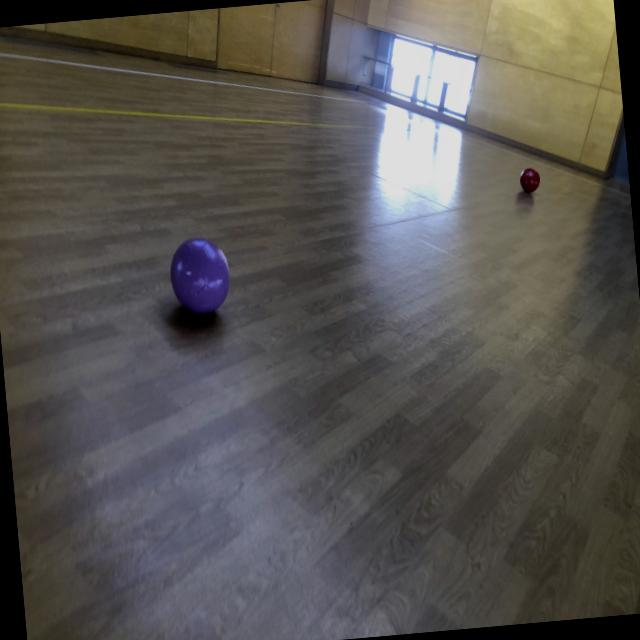purple_ball: (167, 236, 235, 316)
red_ball: (517, 166, 542, 194)
